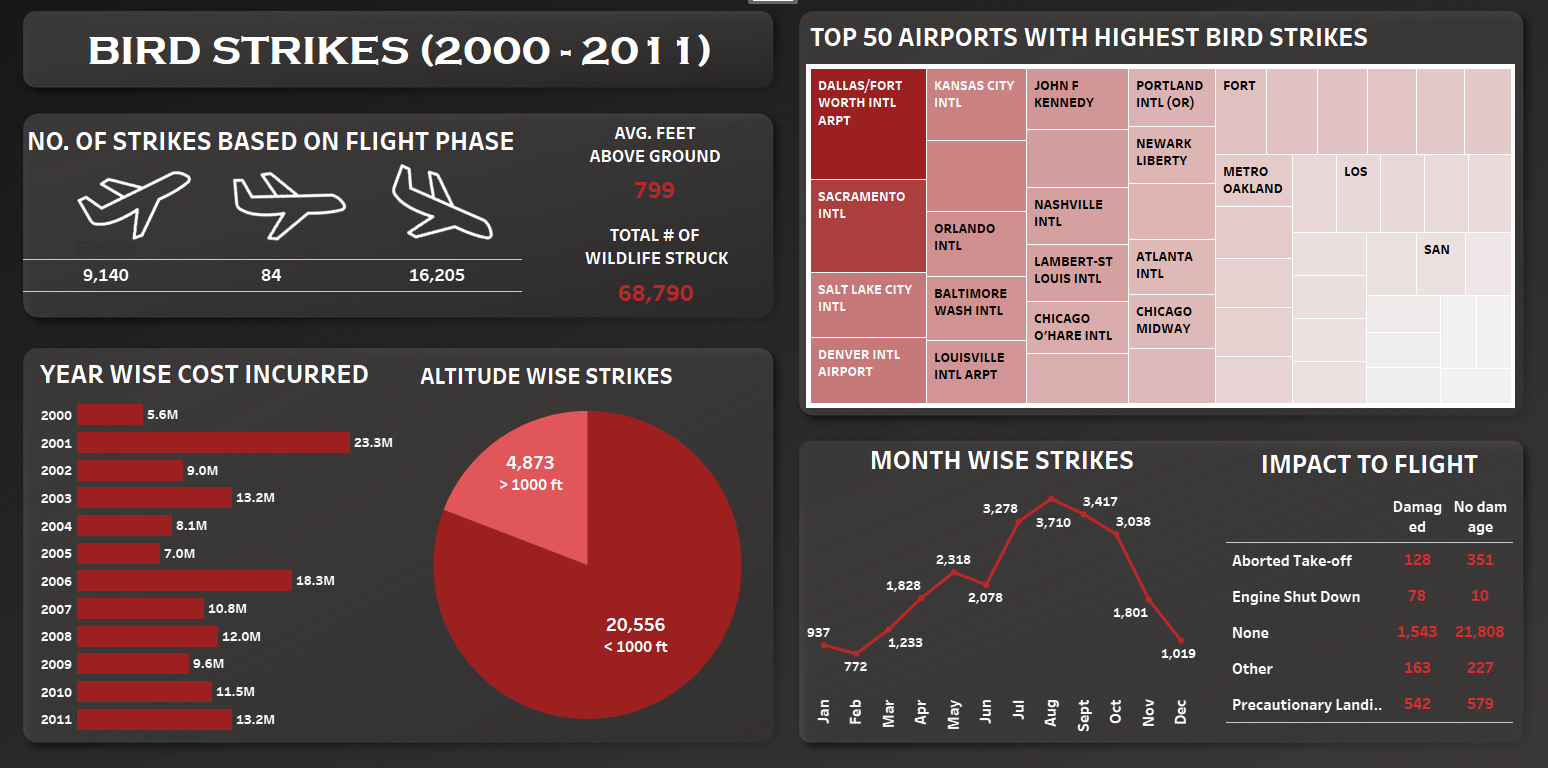

The dashboard page shown, as its layout file describes it:
{"tool":"tableau","page":{"name":"Dashboard 2","canvas":[1600,800],"ordinal":1},"visuals":[{"type":"image","param":"C:/Data Science/Unified Mentor/Projects List/Data Science Projects-20240401T1144","box":[8,8,1584,784]},{"type":"text","box":[57,17,739,98]},{"type":"worksheet","title":"Sheet 4","mark":"Automatic","box":[833,30,709,393]},{"type":"worksheet","title":"Sheet 1 (2)","mark":"Automatic","box":[576,132,219,129]},{"type":"worksheet","title":"Sheet 8","mark":"Automatic","box":[50,134,742,263]},{"type":"image","param":"C:/Data Science/Unified Mentor/Projects List/Data Science Projects-20240401T1144","box":[382,147,157,167]},{"type":"image","param":"C:/Data Science/Unified Mentor/Projects List/Data Science Projects-20240401T1144","box":[233,151,153,150]},{"type":"image","param":"C:/Data Science/Unified Mentor/Projects List/Data Science Projects-20240401T1144","box":[101,170,120,150]},{"type":"worksheet","title":"Sheet 1 (3)","mark":"Automatic","box":[574,234,236,126]},{"type":"worksheet","title":"Sheet 5","mark":"Bar","rows":["FlightDate"],"cols":[" Total $"],"box":[24,367,415,381]},{"type":"worksheet","title":"Sheet 7","mark":"Pie","box":[443,371,343,373]},{"type":"worksheet","title":"Sheet 6","mark":"Automatic","rows":[" Number struck"],"cols":["FlightDate"],"box":[834,453,390,296]},{"type":"worksheet","title":"Sheet 19","mark":"Automatic","rows":[" Impact to flight"],"cols":[" Indicated Damage"],"box":[1253,457,295,319]}]}

Visuals, with their boxes in screenshot pixels (x1, y1, x2, y2), scaled from the page's 1600x800 canvas onto the 1548x768 screenshot:
image: <box>8,8,1540,760</box>
text: <box>55,16,770,110</box>
"Sheet 4" worksheet: <box>806,29,1492,406</box>
"Sheet 1 (2)" worksheet: <box>557,127,769,251</box>
"Sheet 8" worksheet: <box>48,129,766,381</box>
image: <box>370,141,521,301</box>
image: <box>225,145,373,289</box>
image: <box>98,163,214,307</box>
"Sheet 1 (3)" worksheet: <box>555,225,784,346</box>
"Sheet 5" worksheet (Bar marks): <box>23,352,425,718</box>
"Sheet 7" worksheet (Pie marks): <box>429,356,760,714</box>
"Sheet 6" worksheet: <box>807,435,1184,719</box>
"Sheet 19" worksheet: <box>1212,439,1498,745</box>
